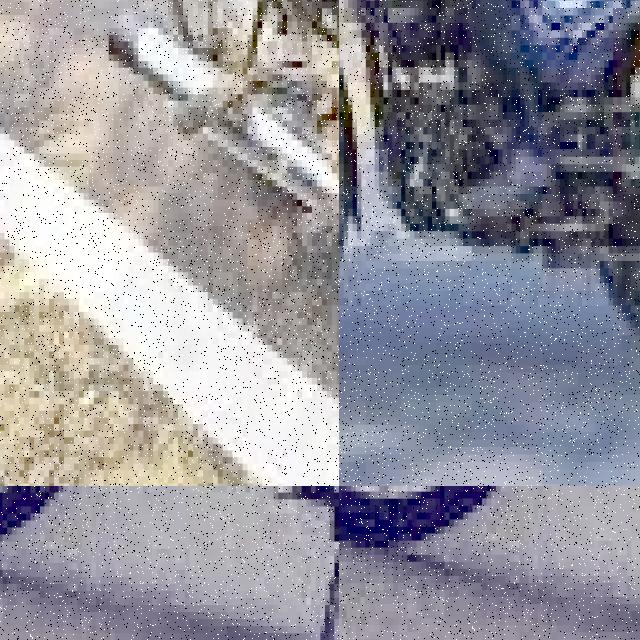bike: (39, 0, 339, 486), (339, 0, 640, 462), (0, 486, 339, 640), (339, 486, 640, 640)
